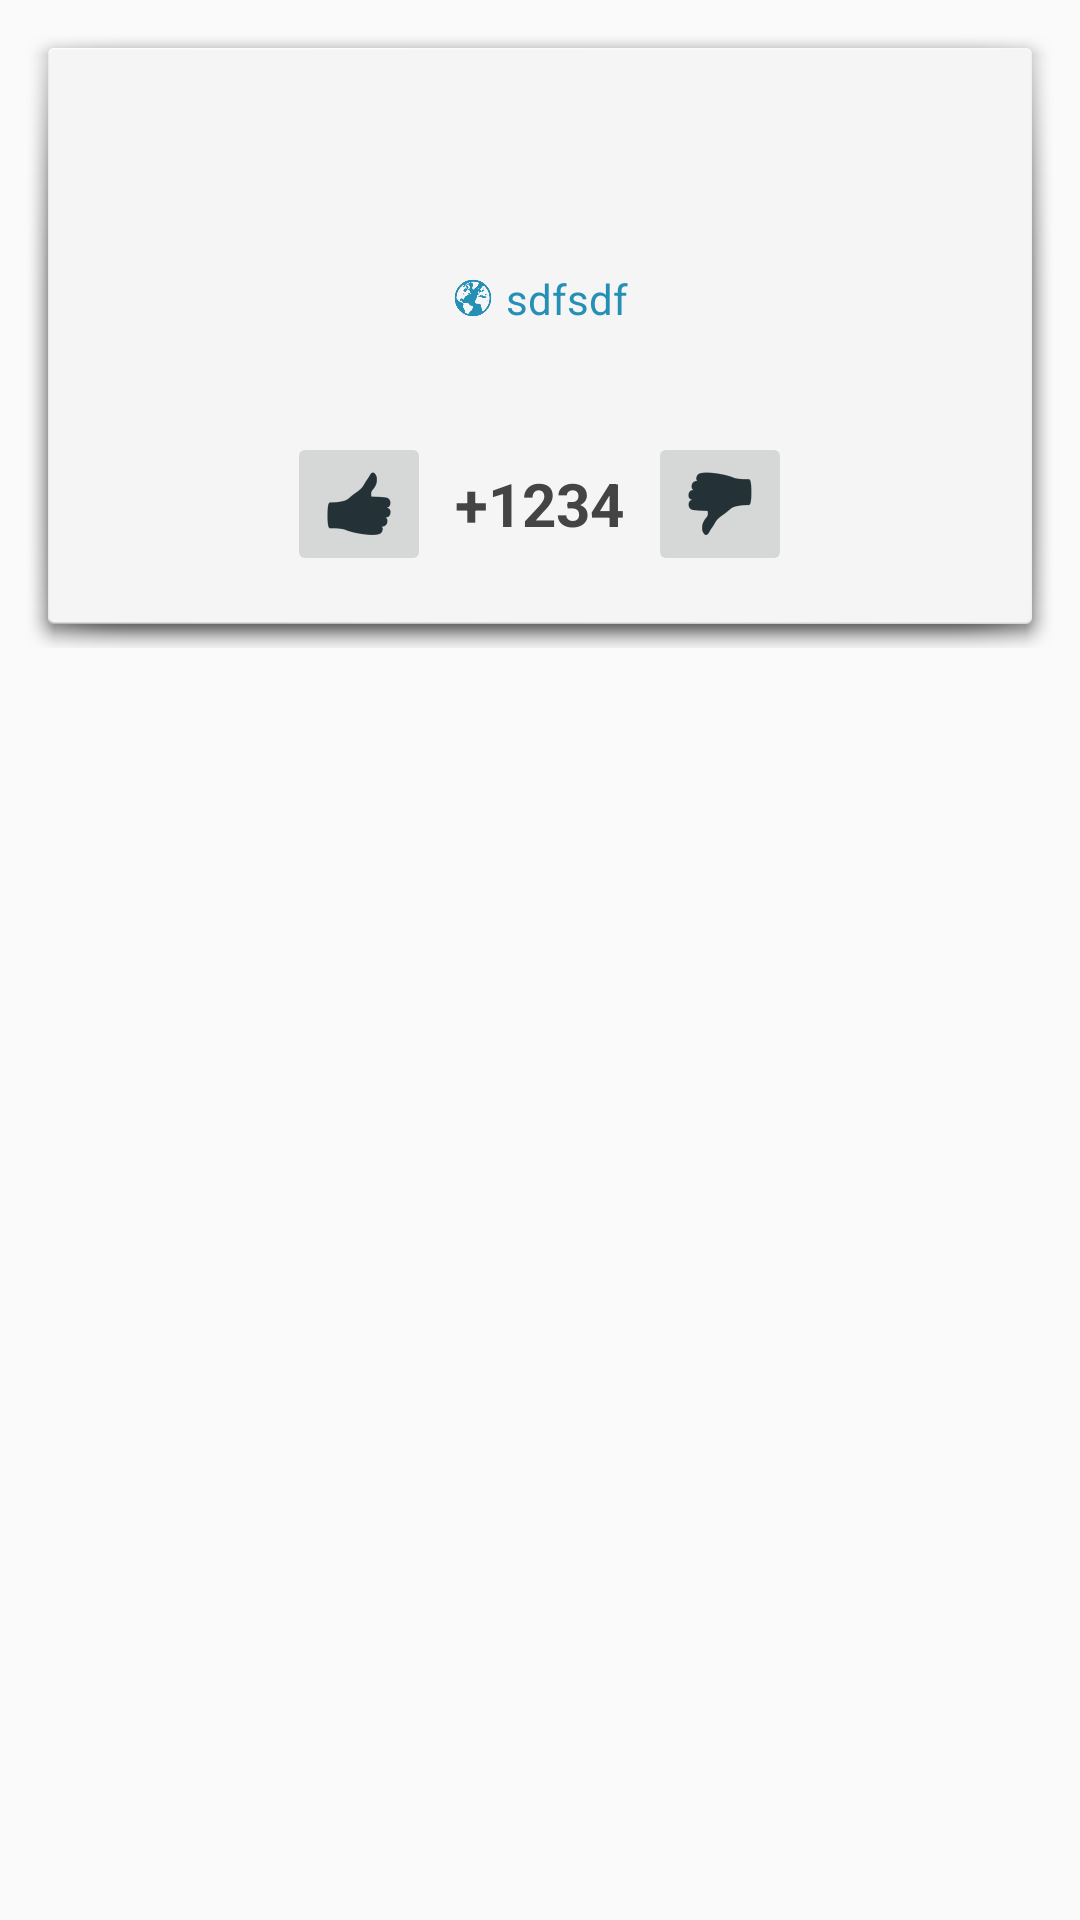

Screen size 1080*1920. Icon name, then its center in pixels as point (x, y):
downvote: point (720, 504)
upvote: point (359, 504)
